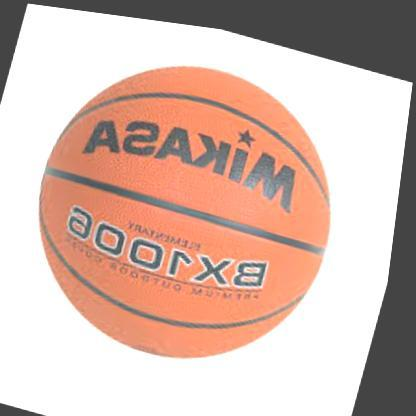basketball: (10, 27, 368, 386)
